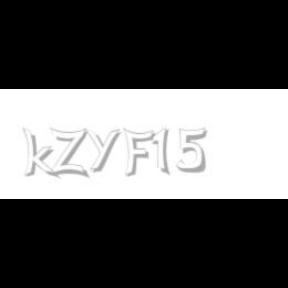1: (149, 128, 171, 176)
5: (176, 128, 207, 174)
F: (122, 128, 154, 178)
Z: (51, 128, 88, 178)
k: (22, 128, 60, 180)
y: (84, 128, 124, 172)
